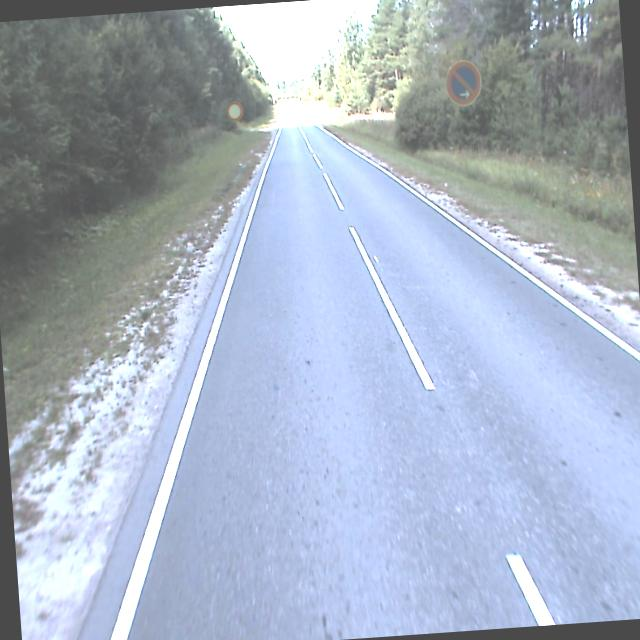road: (79, 101, 640, 640)
